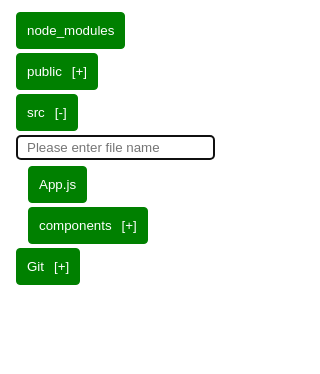
Test: <File /> › should toggle the expansion of a file on clicking + or - sign of item
The image size is (320, 374).
Click the 1st button "[+]". click: [79, 72]
box: [72,64,87,79]
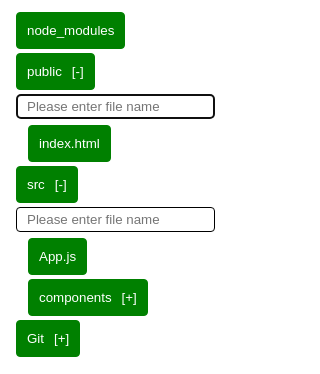
Check: the 1st button "[-]" is shown, box [72,64,84,79]
